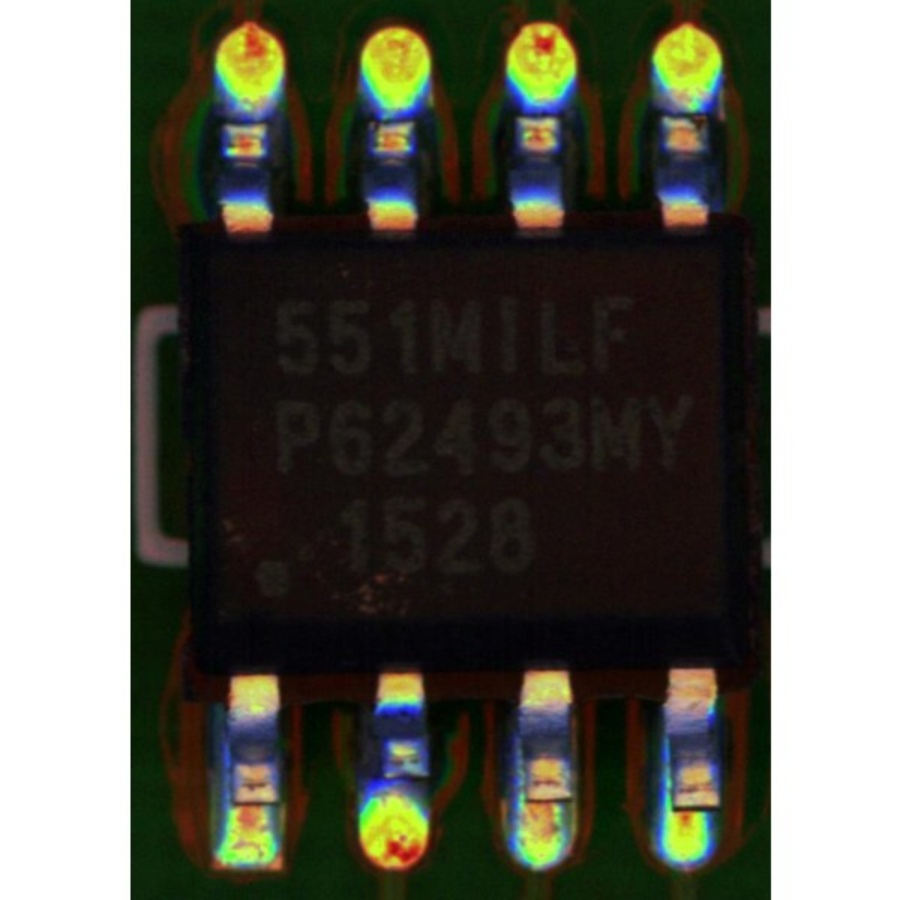Bad_podu: (235, 791, 273, 821), (524, 787, 563, 813), (674, 796, 707, 826)
Bad_qiaojiao: (658, 729, 673, 804), (221, 714, 232, 808), (514, 734, 522, 804)
